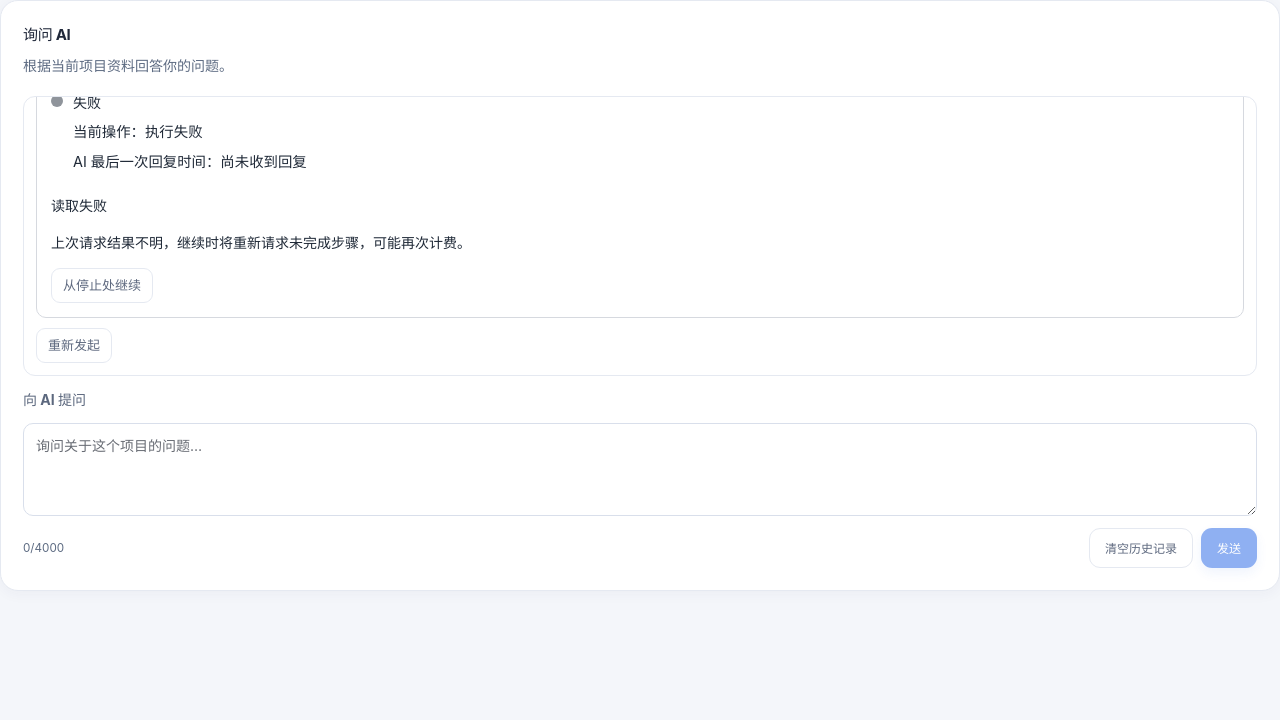
Scenario: restores failed history and resumes original question without posting another message
(page scrolled)
Expected: the text "上次请求结果不明，继续时将重新请求未完成步骤，可能再次计费。" is shown, [51,234,471,251]
Step 1. Click the button "从停止处继续" → (102, 285), box [51,268,153,303]
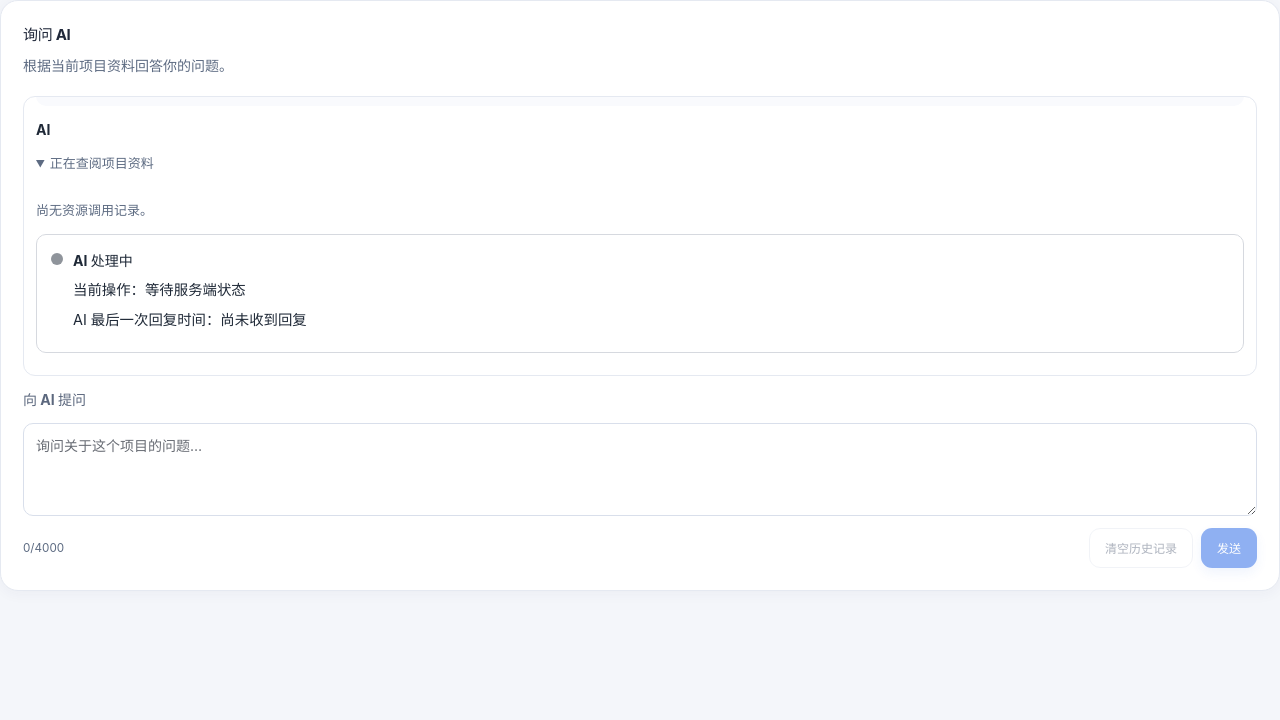
Expected: the button "清空历史记录" is disabled, [1089,528,1193,568]
